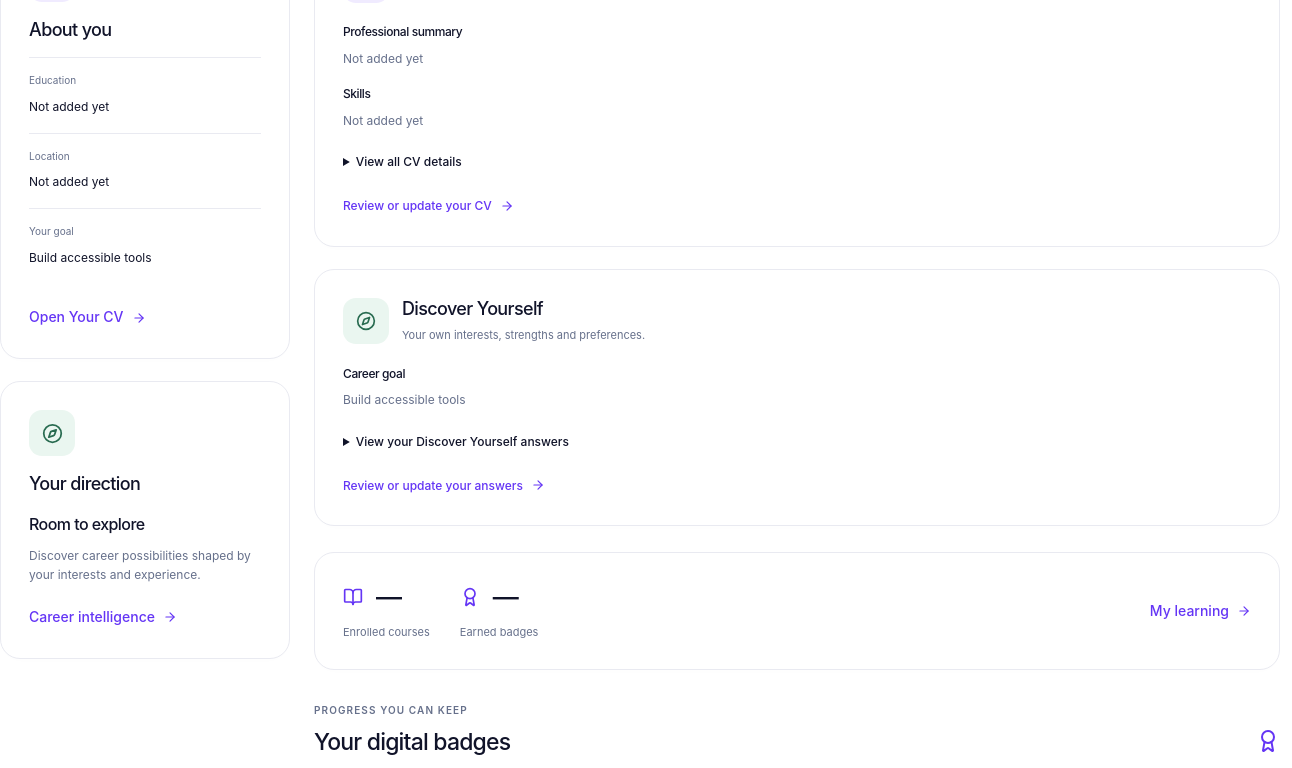
Test: shows saved discovery answers in My Profile and distinguishes no relocation from missing data
The image size is (1292, 768).
(page scrolled)
Expected: the text "Build accessible tools" below "Career goal" is shown, [343,392,466,407]
Click the heading "View your Discover Yourself answers" at (462, 441), box [356,434,569,449]
(page scrolled)
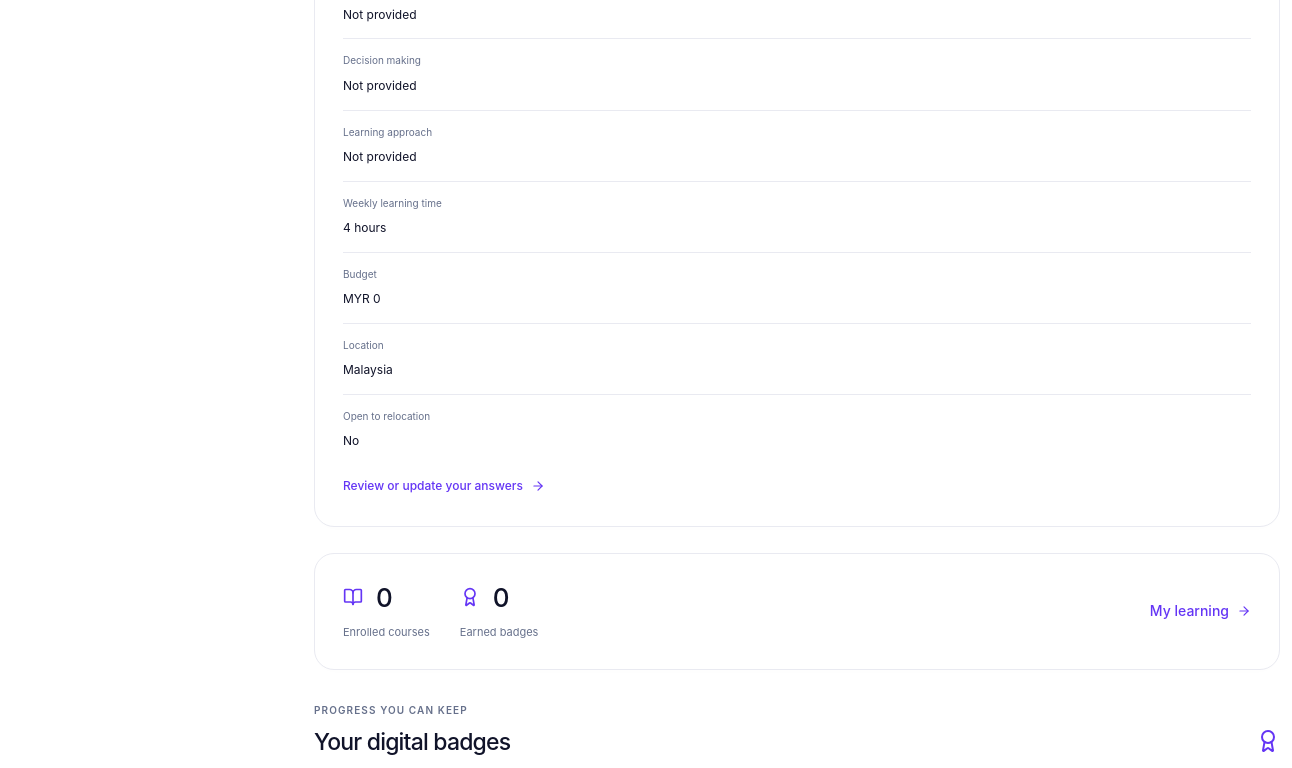
Result: the text "MYR 0" is shown at [343,291,381,306]
Result: the text "No" is shown at [343,433,359,448]
